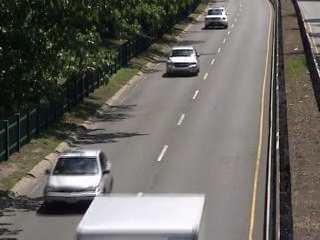car: (42, 146, 118, 211), (163, 43, 206, 81), (200, 7, 231, 31)
